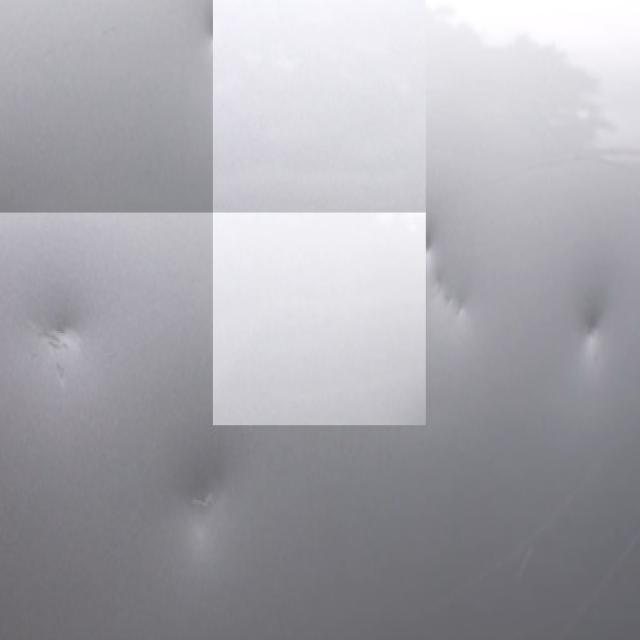dent: (401, 204, 501, 349), (564, 261, 621, 369), (173, 465, 223, 559), (34, 309, 69, 373)
